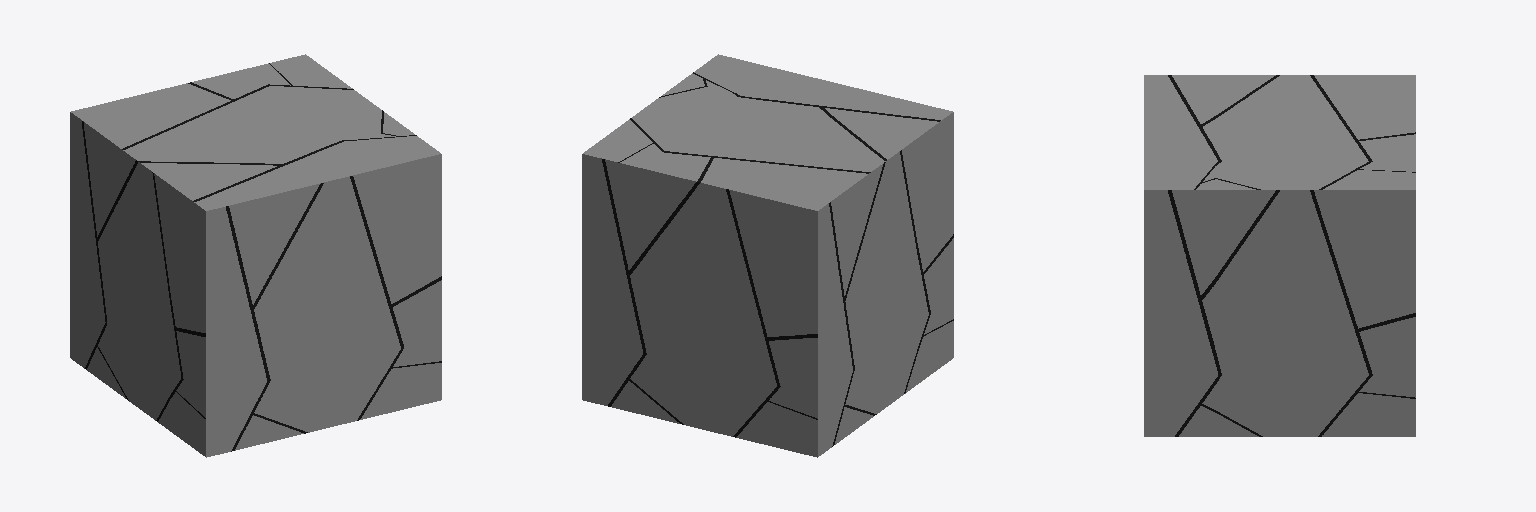
3 renders of one model, left to right at view 1: azimuth 30°, elevation 25°; view 2: azimuth 150°, elevation 25°; view 3: azimuth 270°, elevation 25°, orthographic.
Visible parts, largest first — view 1: Cube.001; view 2: Cube.001; view 3: Cube.001.
Part boxes in pixels (bbox=[...]): Cube.001: bbox=[70, 54, 441, 457]; Cube.001: bbox=[582, 54, 953, 457]; Cube.001: bbox=[1144, 75, 1415, 436].
Size of the model in its own units: 2 by 2 by 2.
Materials: 1 (1 with a texture image).